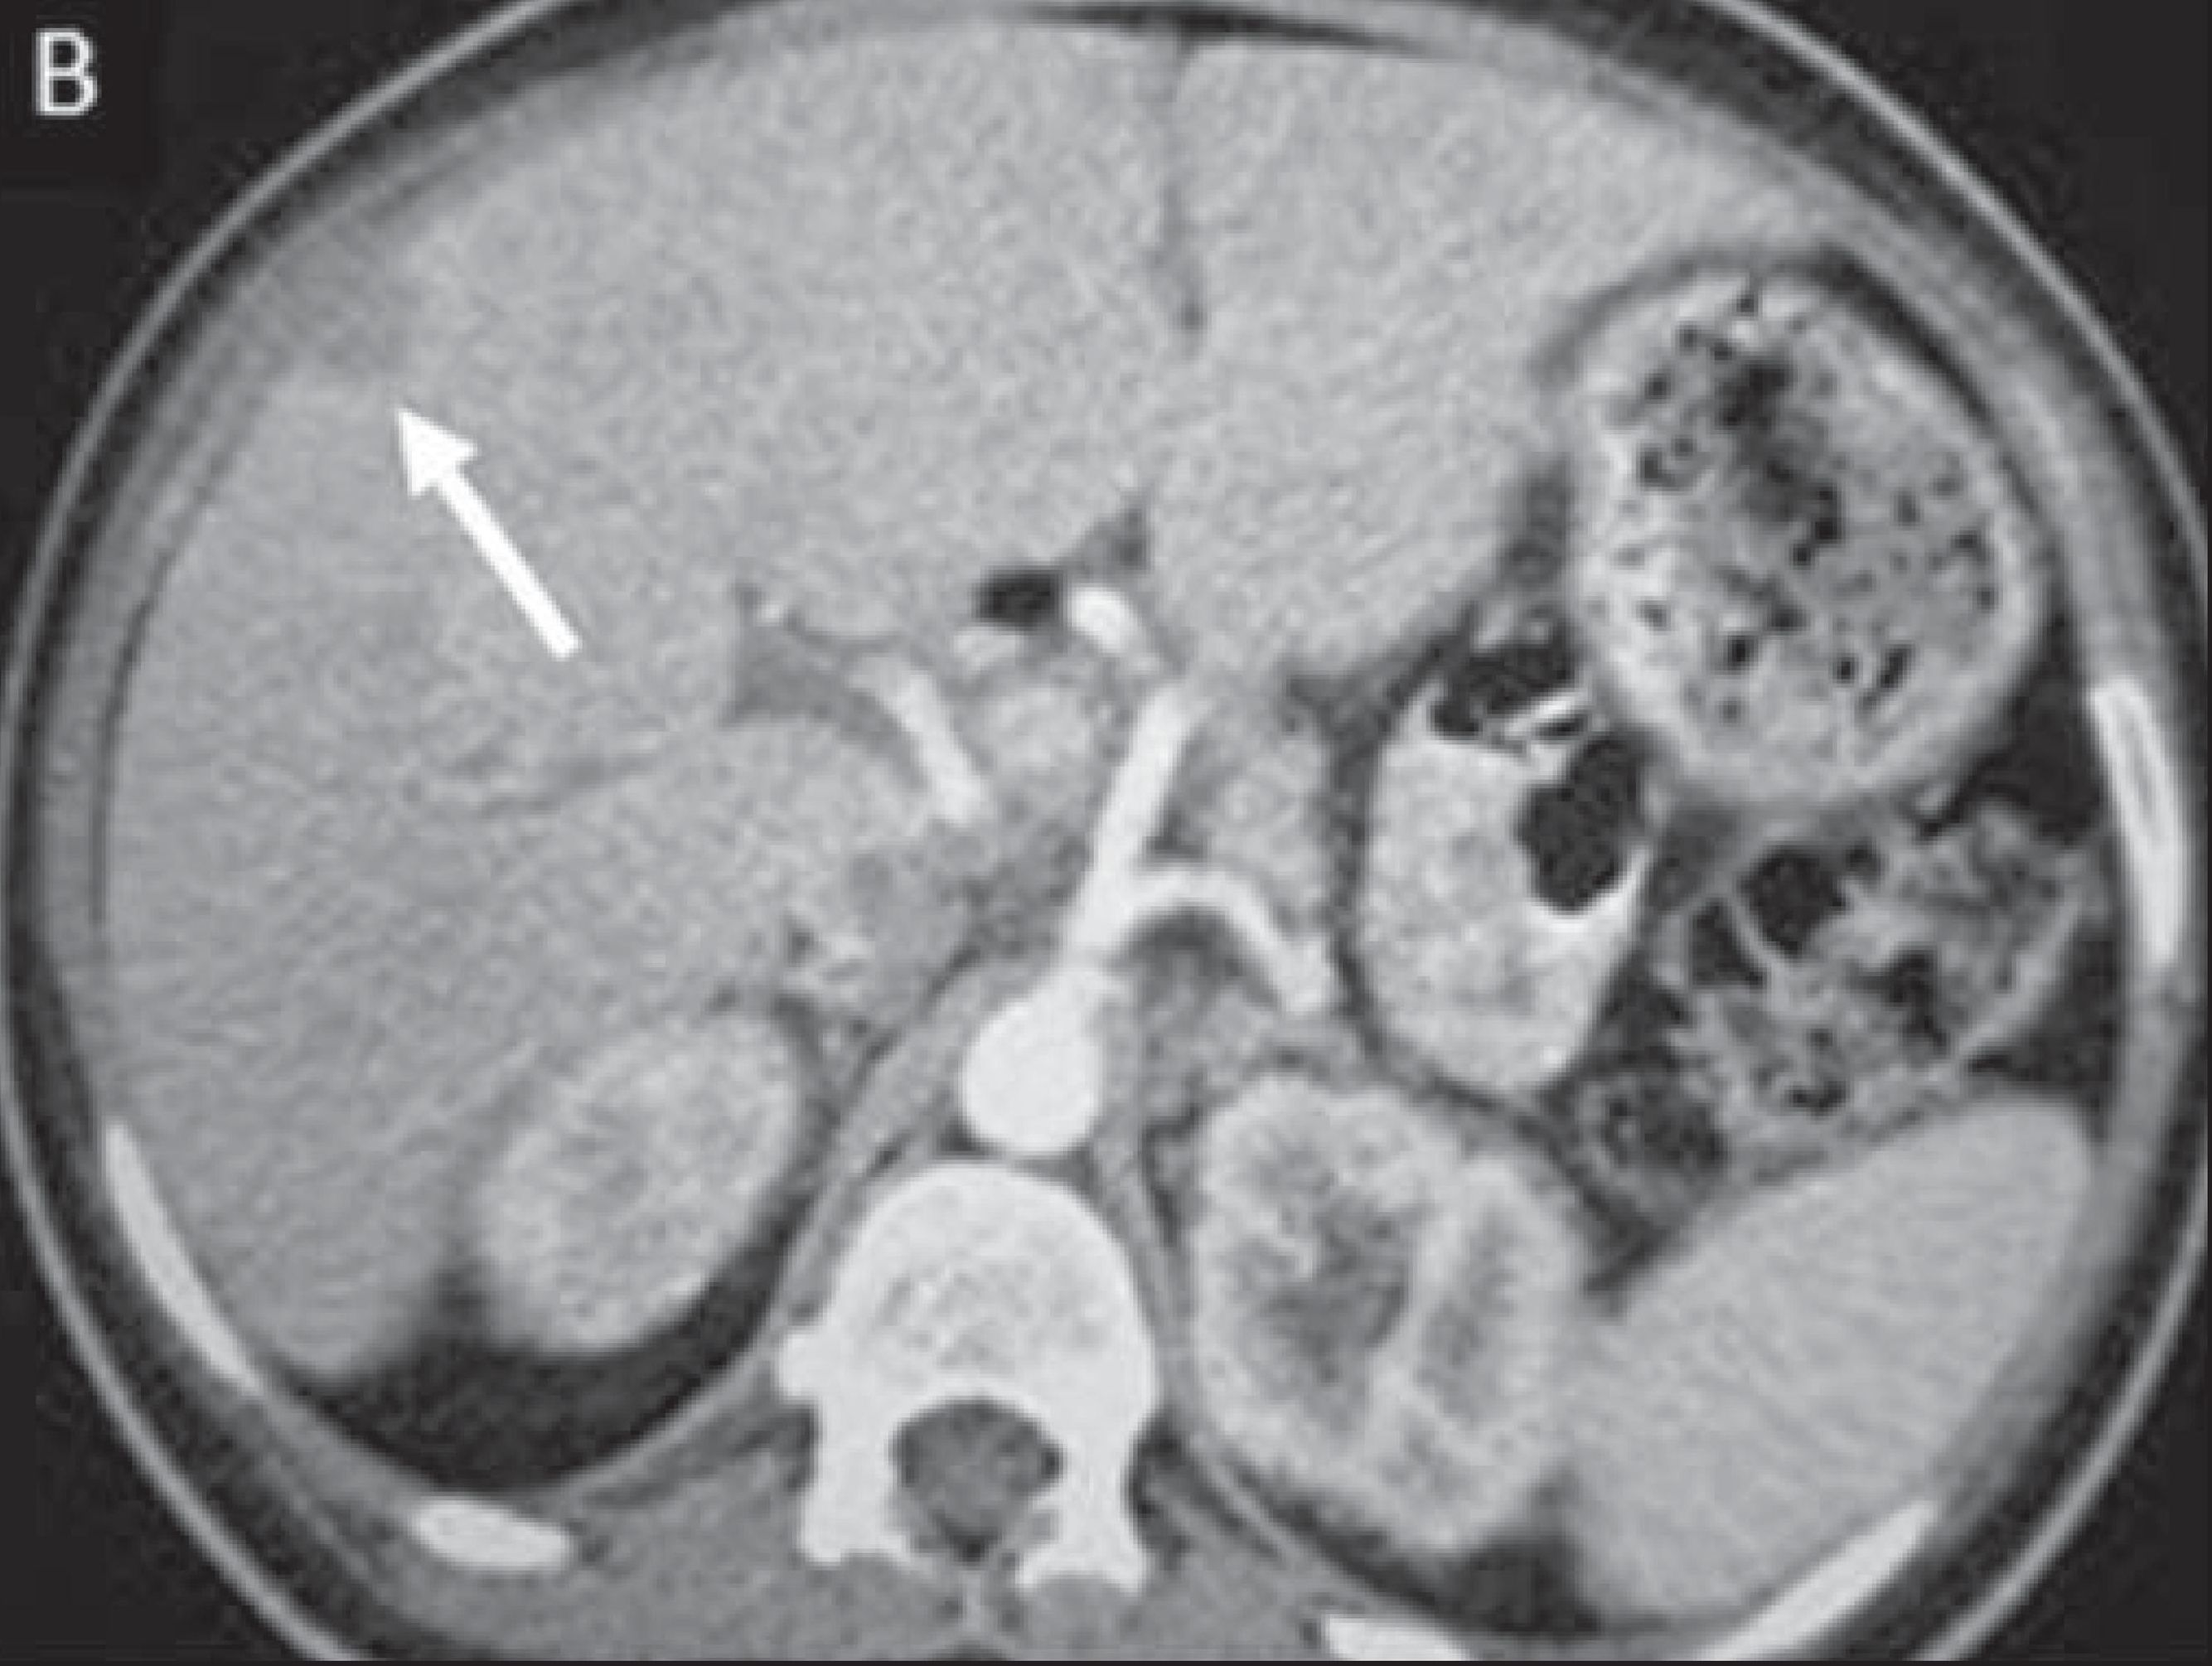anomaly: (255, 254, 469, 389)
